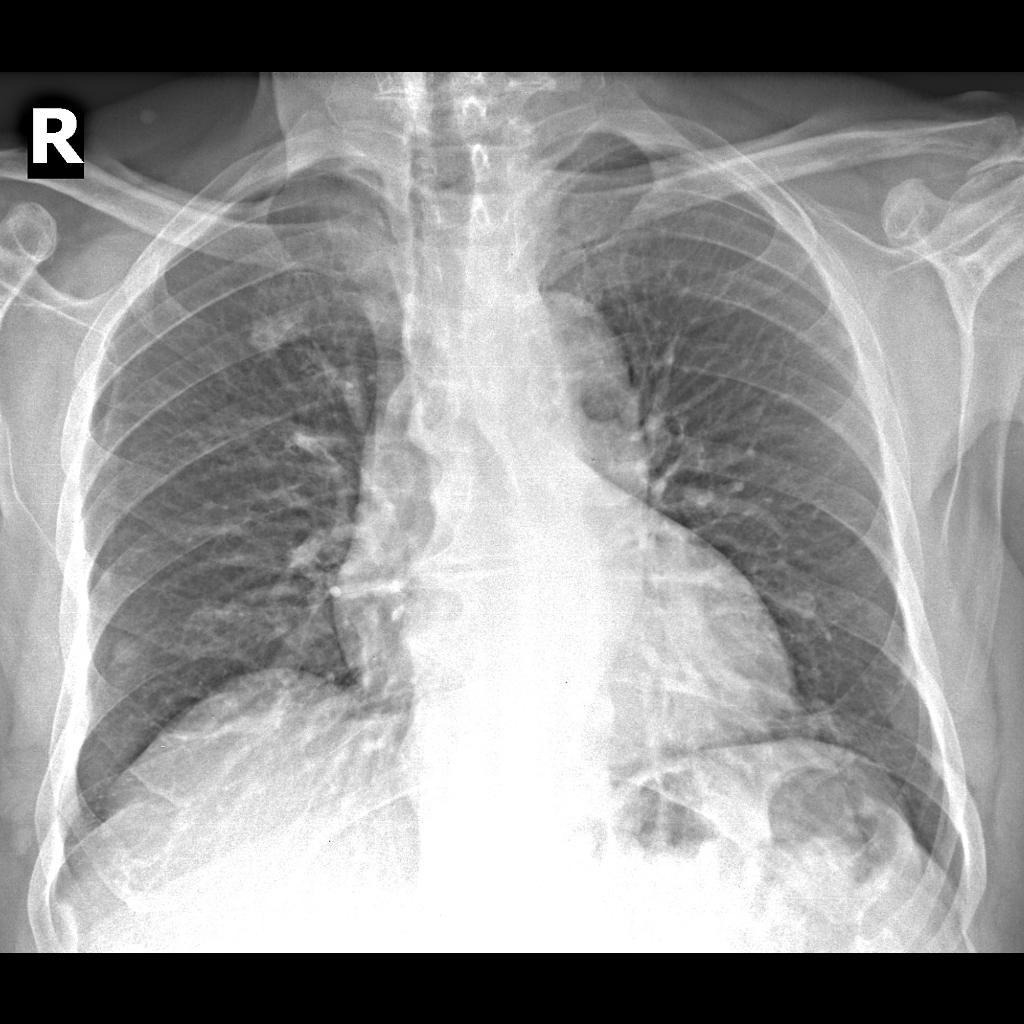Nodule: (236, 306, 314, 369), (96, 623, 152, 676), (782, 585, 834, 628)
